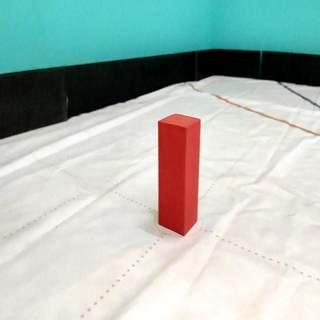redbox: (156, 113, 200, 234)
